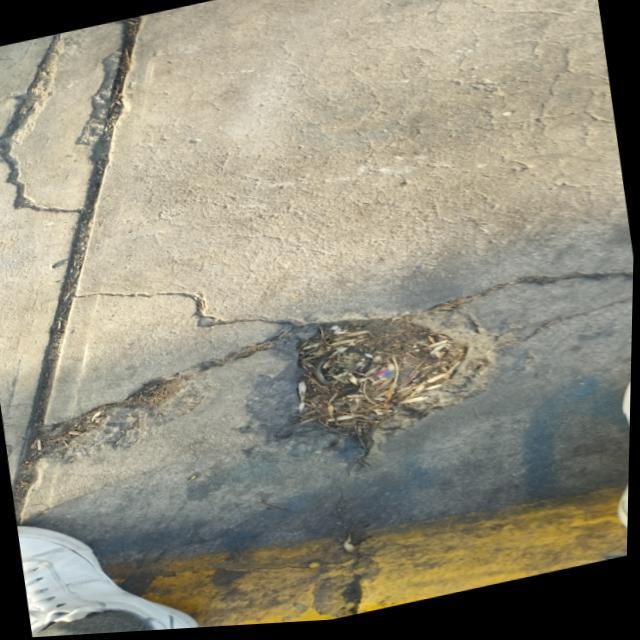hole: (228, 283, 508, 494)
